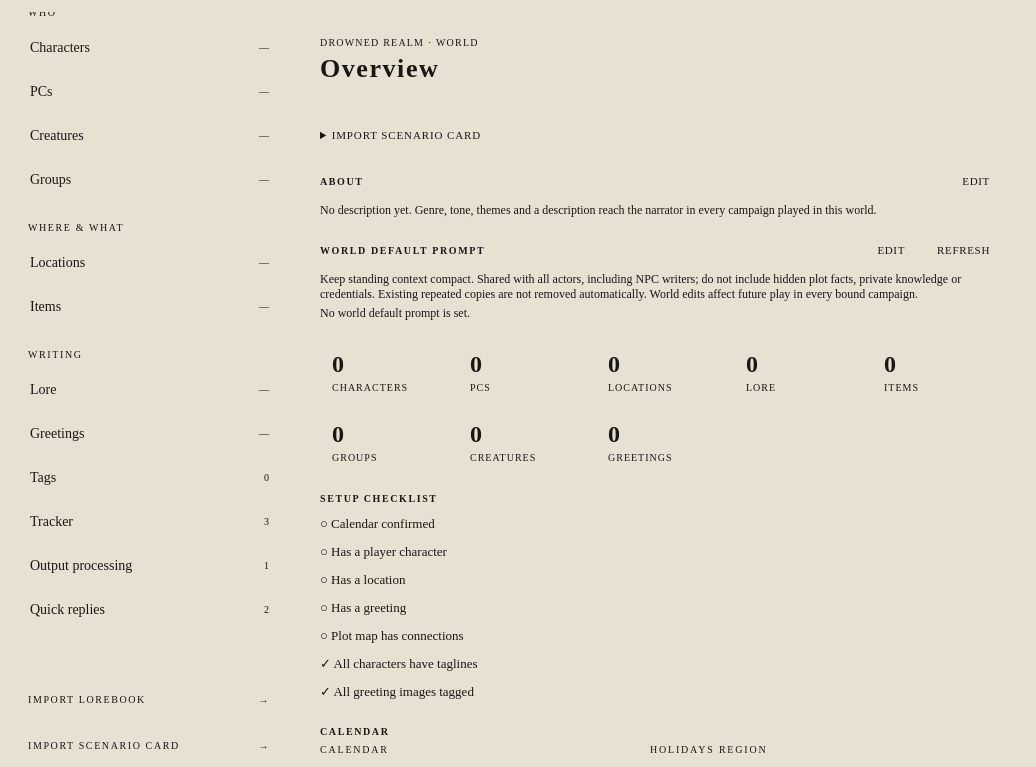
it: the Tracker row counts the world's fields and opens their editor
The width and height of the screenshot is (1036, 767).
(page scrolled)
Click the link "Tracker 3" at (52, 521), box [30, 514, 270, 529]
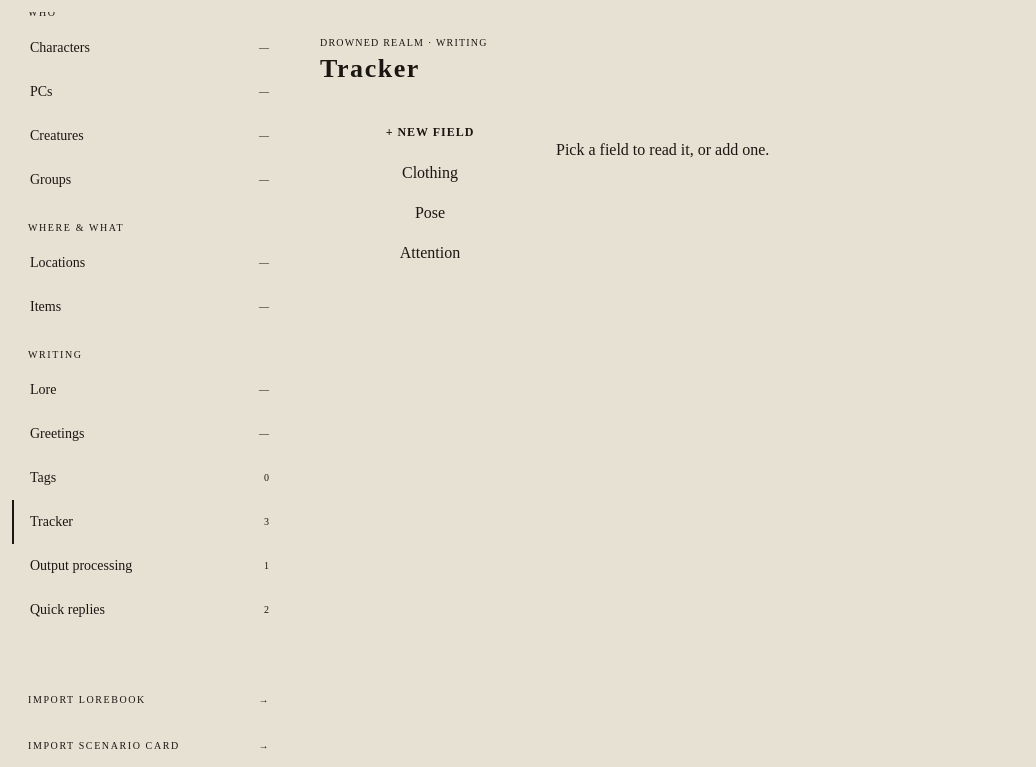
Now the heading "Tracker" is shown, box [320, 54, 420, 82]
Now the button "+ New field" is shown, box [320, 117, 540, 148]
Now the button "Clothing" is shown, box [320, 156, 540, 190]
